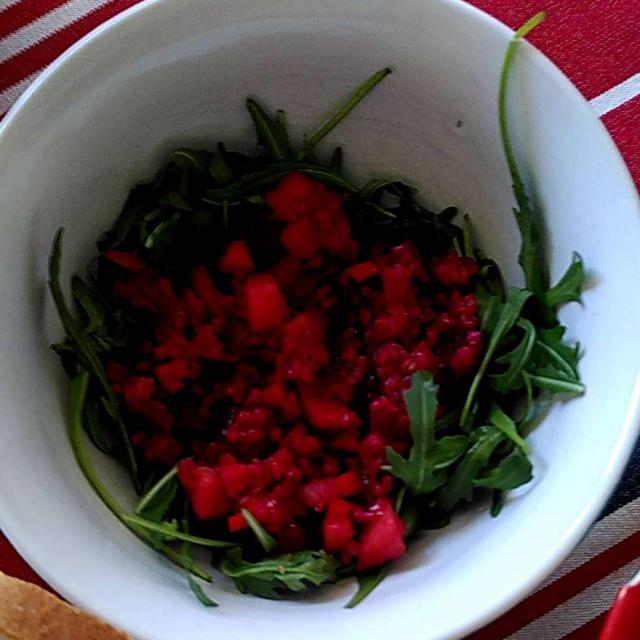bulgur: (91, 197, 486, 571)
mixed-vegetables: (157, 195, 424, 557)
salad-rocket: (24, 23, 571, 603)
